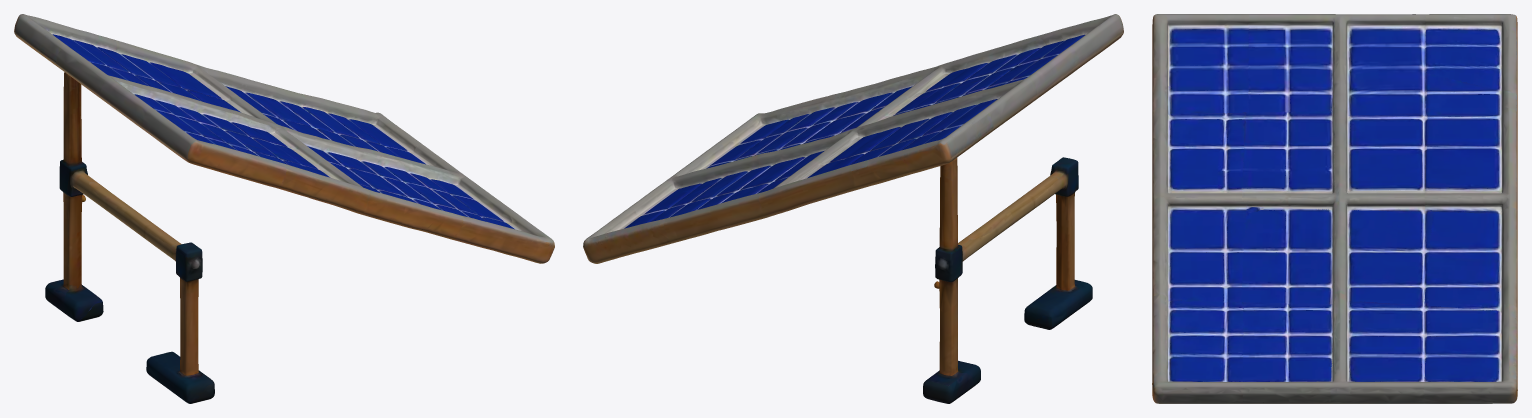
The model's file is solar_array.glb.
3 renders of one model, left to right at view 1: azimuth 30°, elevation 25°; view 2: azimuth 150°, elevation 25°; view 3: azimuth 270°, elevation 25°, orthographic. The views are drawn at different scales.
Visible parts, largest first — view 1: tripo_node_f4ff0ee4-7b45-4bf5-9fe3-2371fc1cb68d; view 2: tripo_node_f4ff0ee4-7b45-4bf5-9fe3-2371fc1cb68d; view 3: tripo_node_f4ff0ee4-7b45-4bf5-9fe3-2371fc1cb68d.
Part boxes in pixels (left/top/right/bottom): tripo_node_f4ff0ee4-7b45-4bf5-9fe3-2371fc1cb68d: left=14, top=14, right=554, bottom=403; tripo_node_f4ff0ee4-7b45-4bf5-9fe3-2371fc1cb68d: left=583, top=14, right=1123, bottom=403; tripo_node_f4ff0ee4-7b45-4bf5-9fe3-2371fc1cb68d: left=1152, top=14, right=1517, bottom=403.
Bounding box in the file's own units: 0.9486 × 0.6869 × 0.7931.
Materials: 1 (1 with a texture image).
